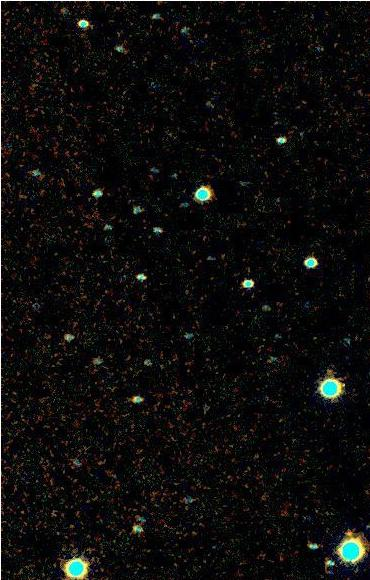star: (334, 519, 364, 549)
